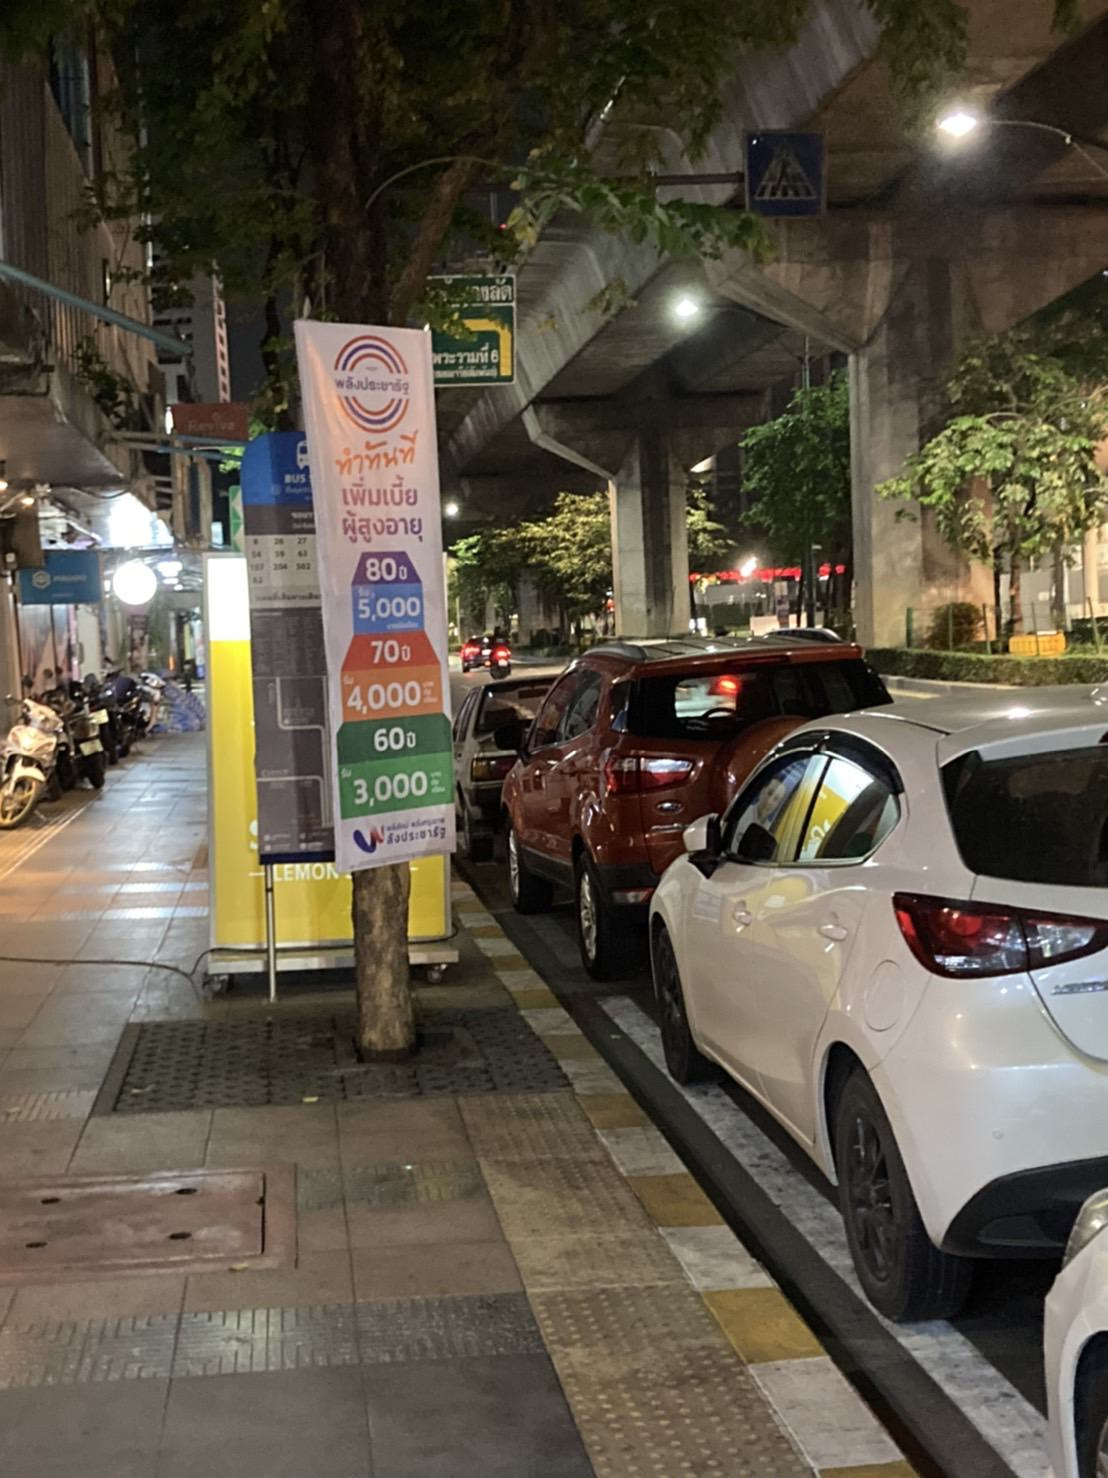Banner: (280, 310, 476, 862)
